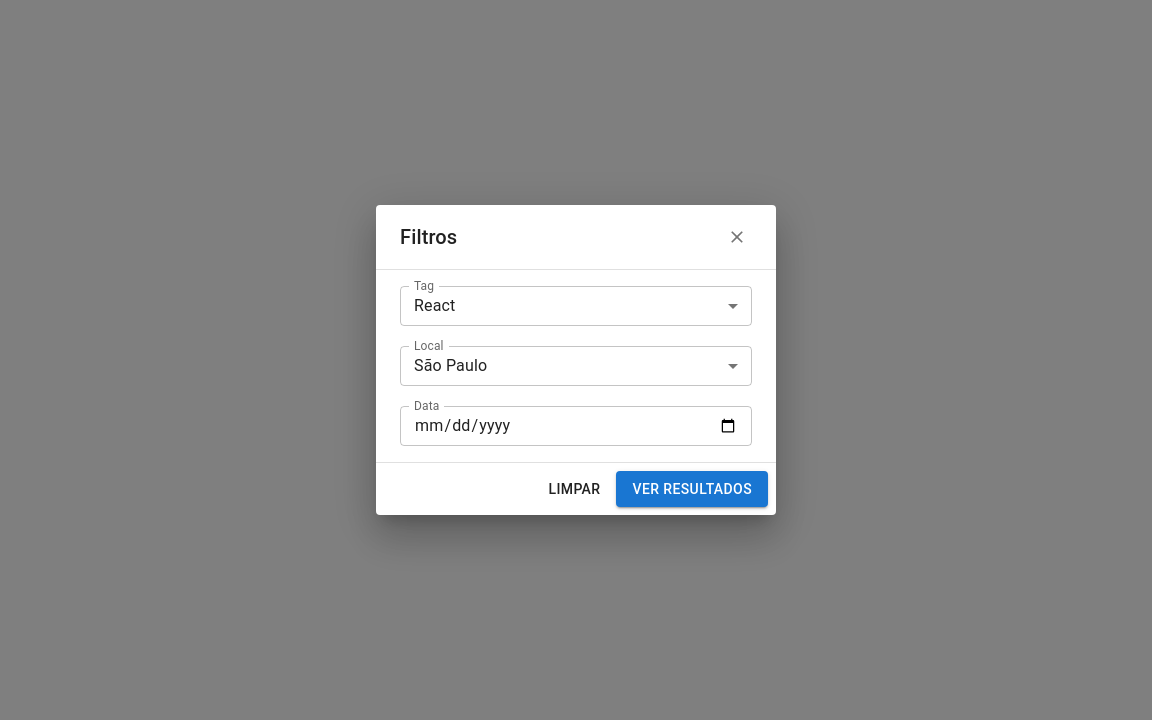
it: FilterModal › limpa os filtros selecionados
What coordinates should you click on to do the following:
click the button "Limpar"
I would click on:
 (574, 489)
Its box is [540,471,608,507].
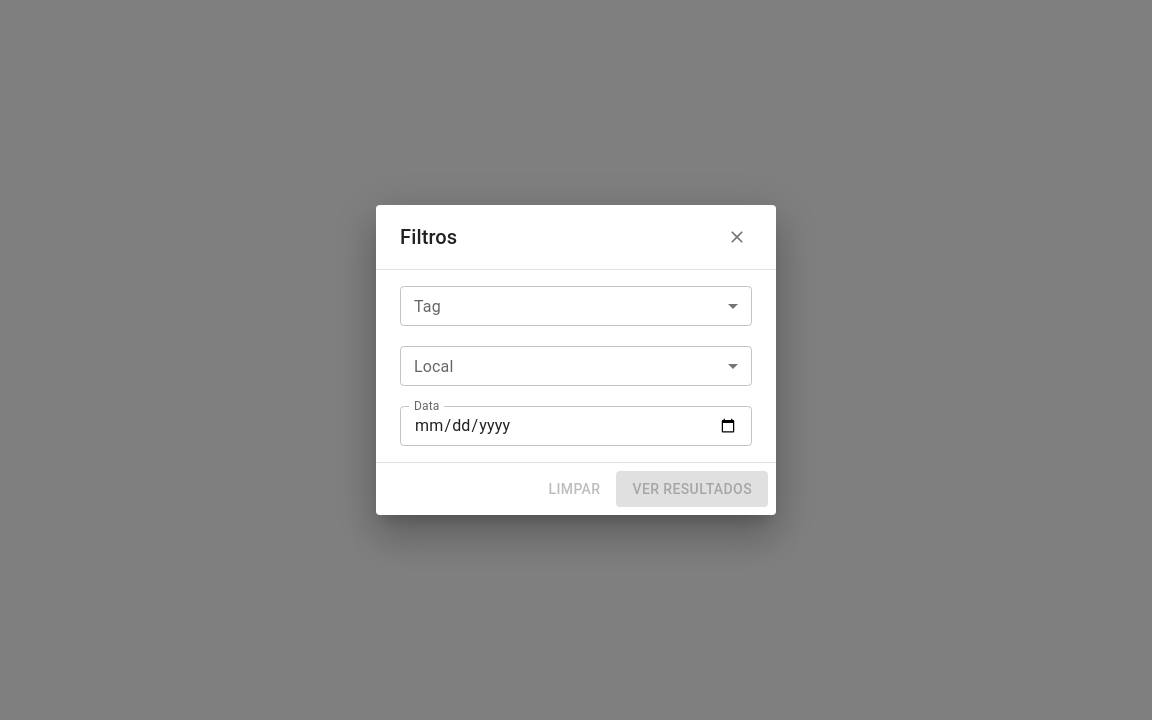
Now the button "Limpar" is disabled, box [540,471,608,507]
Now the button "Ver resultados" is disabled, box [616,471,768,507]
